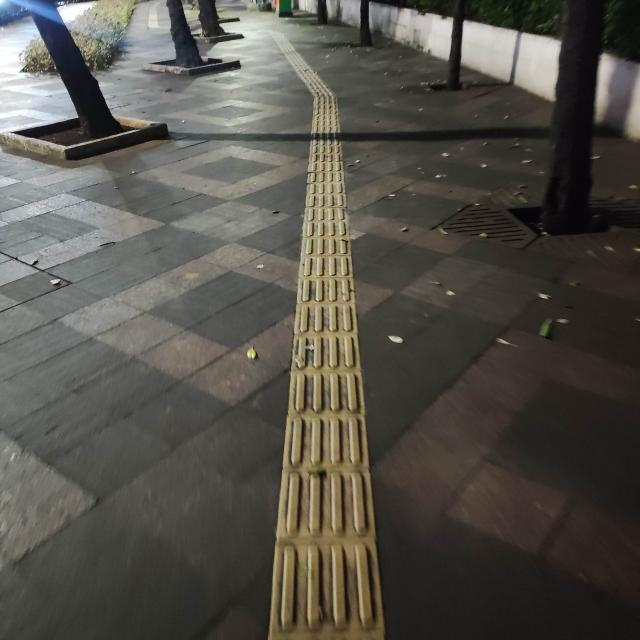lurus: (267, 107, 398, 640)
